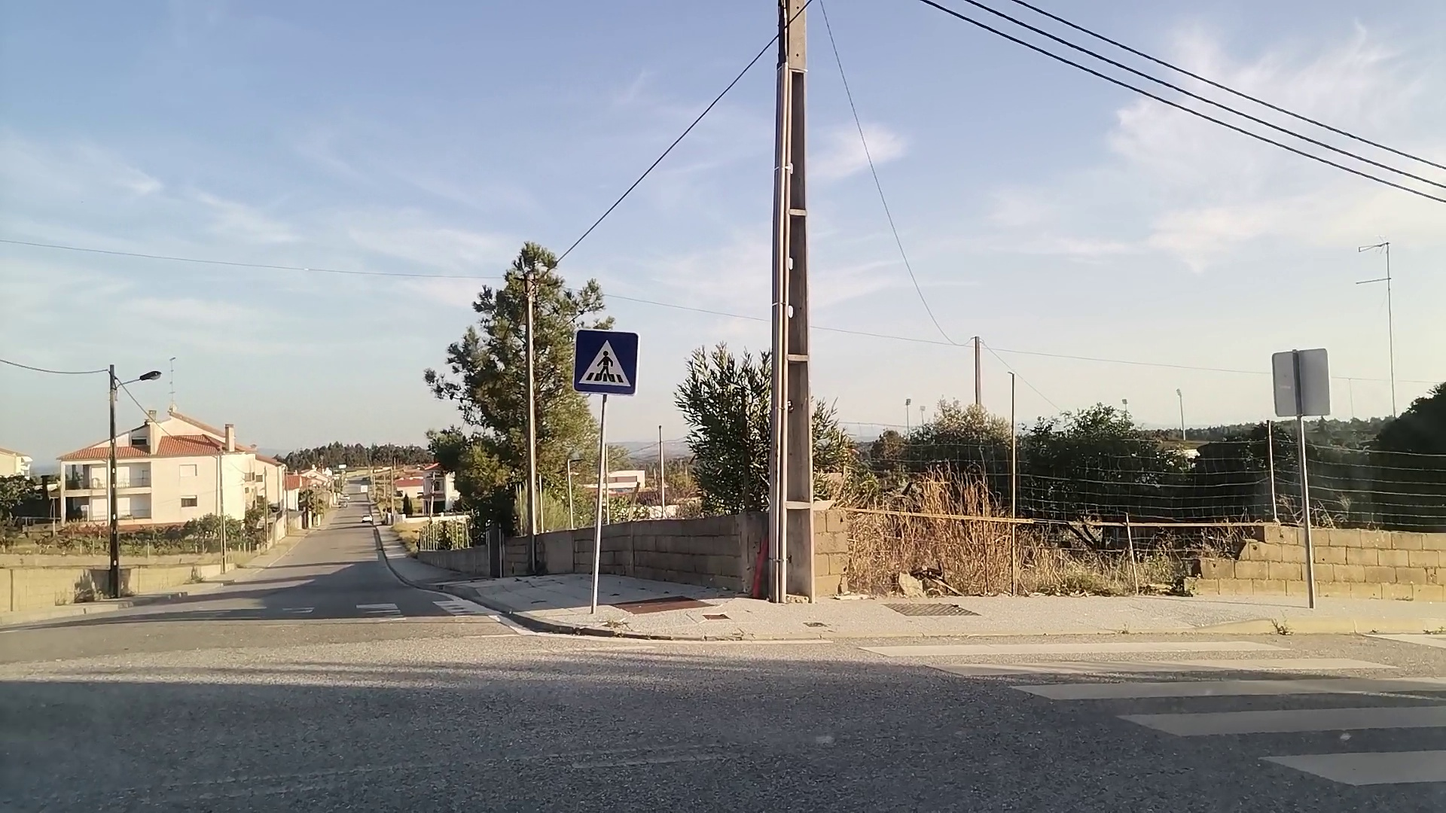Stairs: (857, 627, 1446, 813)
